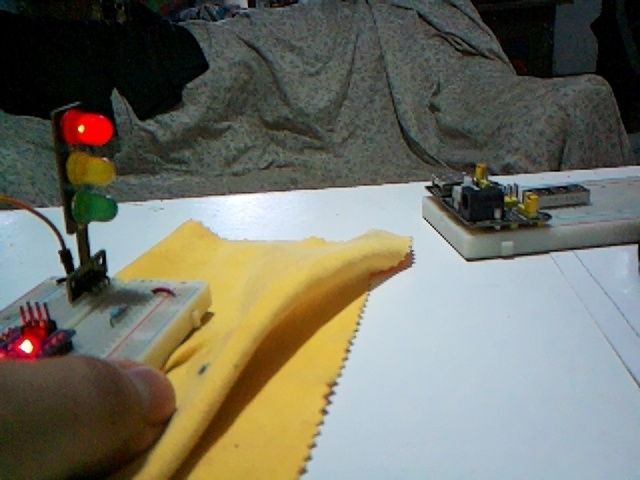traffic_light_red: (53, 101, 119, 292)
